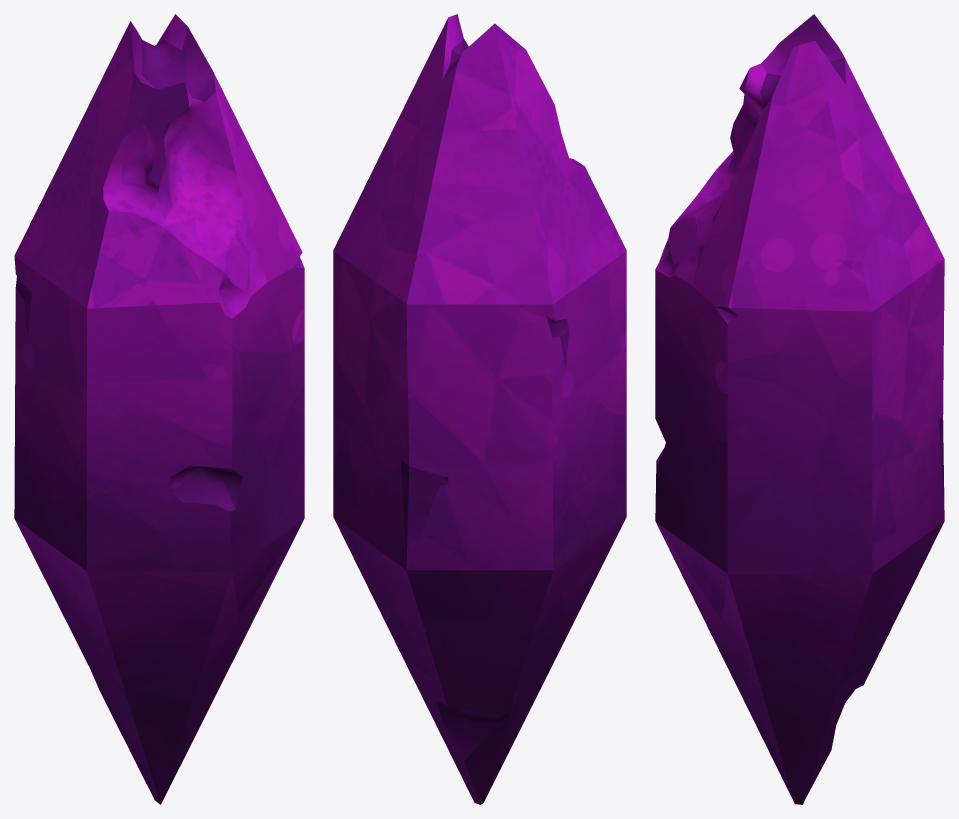
The model's file is P_CRYSTAL 1.fbx.
The picture shows the model from 3 angles, left to right: view 1: azimuth 30°, elevation 25°; view 2: azimuth 150°, elevation 25°; view 3: azimuth 270°, elevation 25°; orthographic projection.
Parts seen in each view (by area): view 1: Crystal_01; view 2: Crystal_01; view 3: Crystal_01.
Part boxes in pixels (bbox=[...]): Crystal_01: bbox=[14, 14, 304, 804]; Crystal_01: bbox=[333, 14, 626, 804]; Crystal_01: bbox=[655, 14, 944, 804].
Size of the model in its own units: 56.18 by 193 by 64.81.
